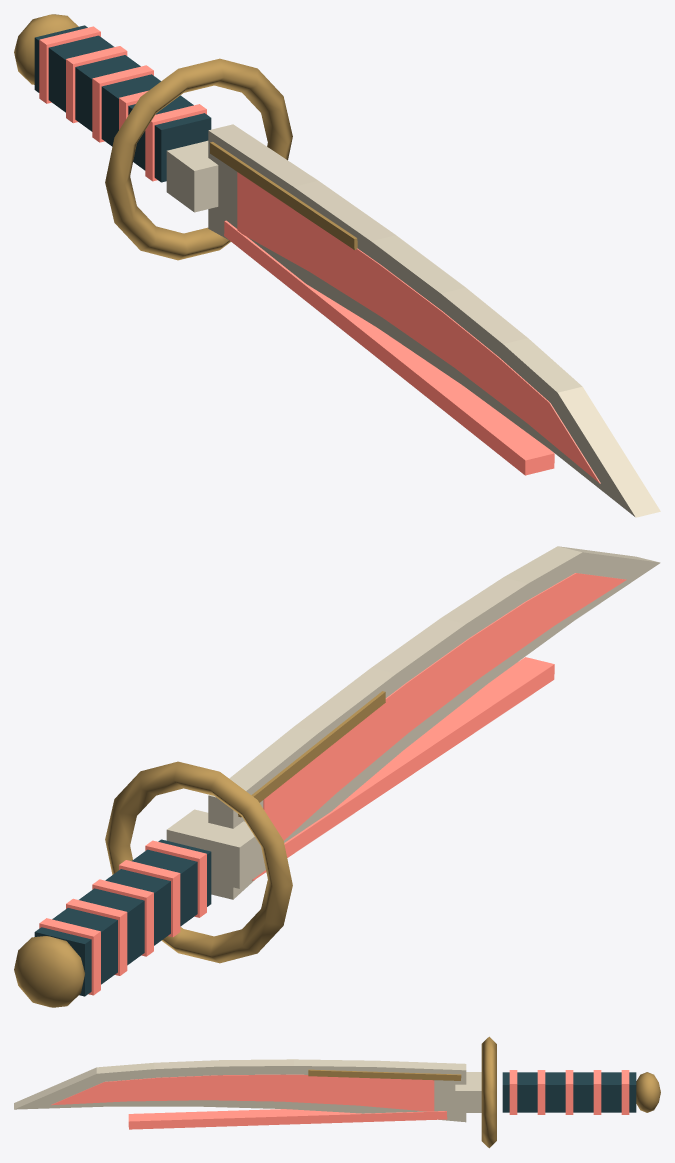
The model's file is redblade.glb.
3 renders of one model, top to bottom at view 1: azimuth 30°, elevation 25°; view 2: azimuth 150°, elevation 25°; view 3: azimuth 270°, elevation 25°, orthographic. The views are drawn at different scales.
Visible parts, largest first — view 1: coral-surface, ivory-surface, gold-surface, grip-surface; view 2: coral-surface, ivory-surface, gold-surface, grip-surface; view 3: coral-surface, ivory-surface, grip-surface, gold-surface.
Boxes of the visible parts, left/top/right/bottom form: coral-surface: left=39, top=26, right=600, bottom=483; ivory-surface: left=166, top=124, right=660, bottom=517; gold-surface: left=14, top=14, right=357, bottom=260; grip-surface: left=34, top=25, right=211, bottom=182; coral-surface: left=39, top=573, right=626, bottom=995; ivory-surface: left=166, top=546, right=660, bottom=899; gold-surface: left=14, top=691, right=385, bottom=1007; grip-surface: left=34, top=839, right=211, bottom=996; coral-surface: left=51, top=1070, right=629, bottom=1129; ivory-surface: left=14, top=1059, right=481, bottom=1122; grip-surface: left=502, top=1072, right=636, bottom=1112; gold-surface: left=308, top=1036, right=660, bottom=1148.
Bounding box in the file's own units: 0.09 × 0.0877 × 0.5078.
